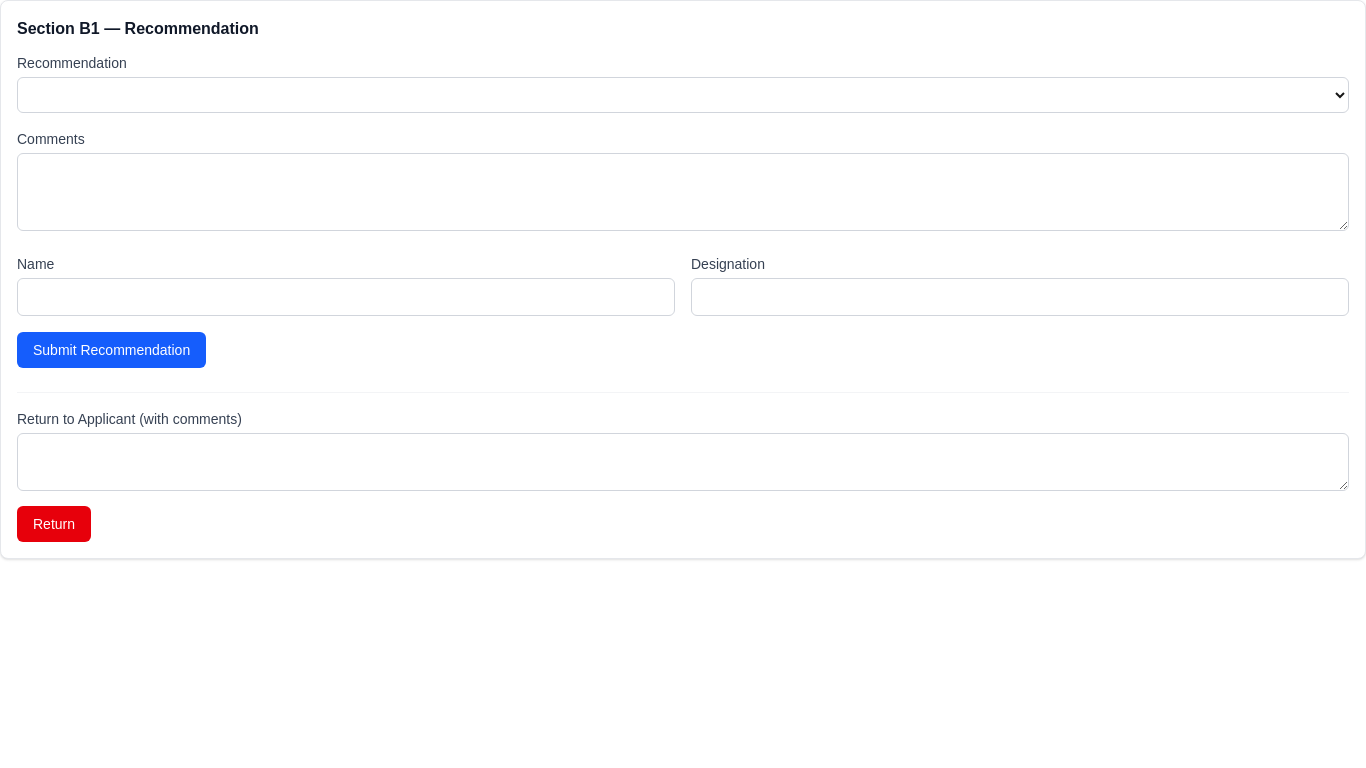
Test case: HodRecommendationForm › requires comments on the Return form and blocks submission when empty
Click the button "Return".
click(54, 524)  # box [17, 506, 91, 542]
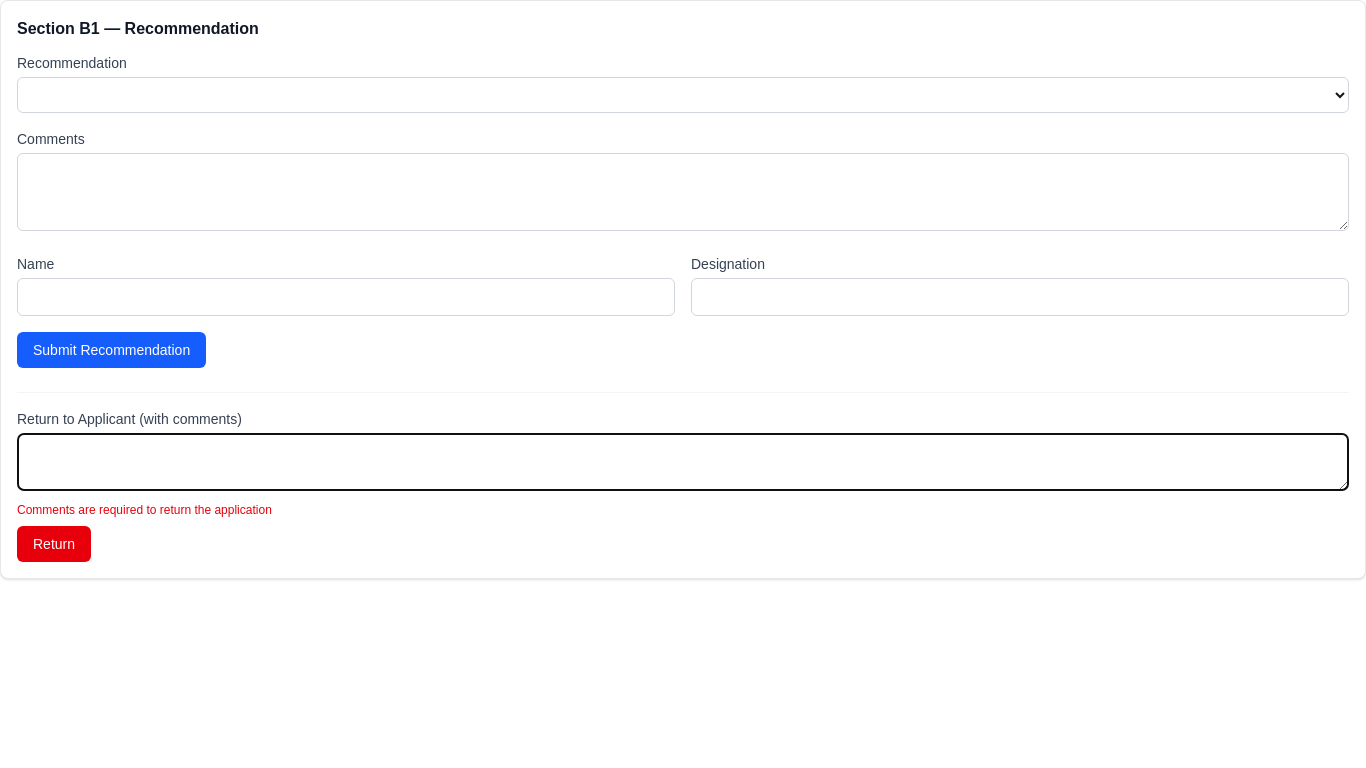
Result: the text "Comments are required to return the application" is shown at [17, 503, 272, 517]
